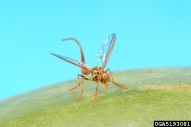Fruit fly: (47, 34, 126, 103)
